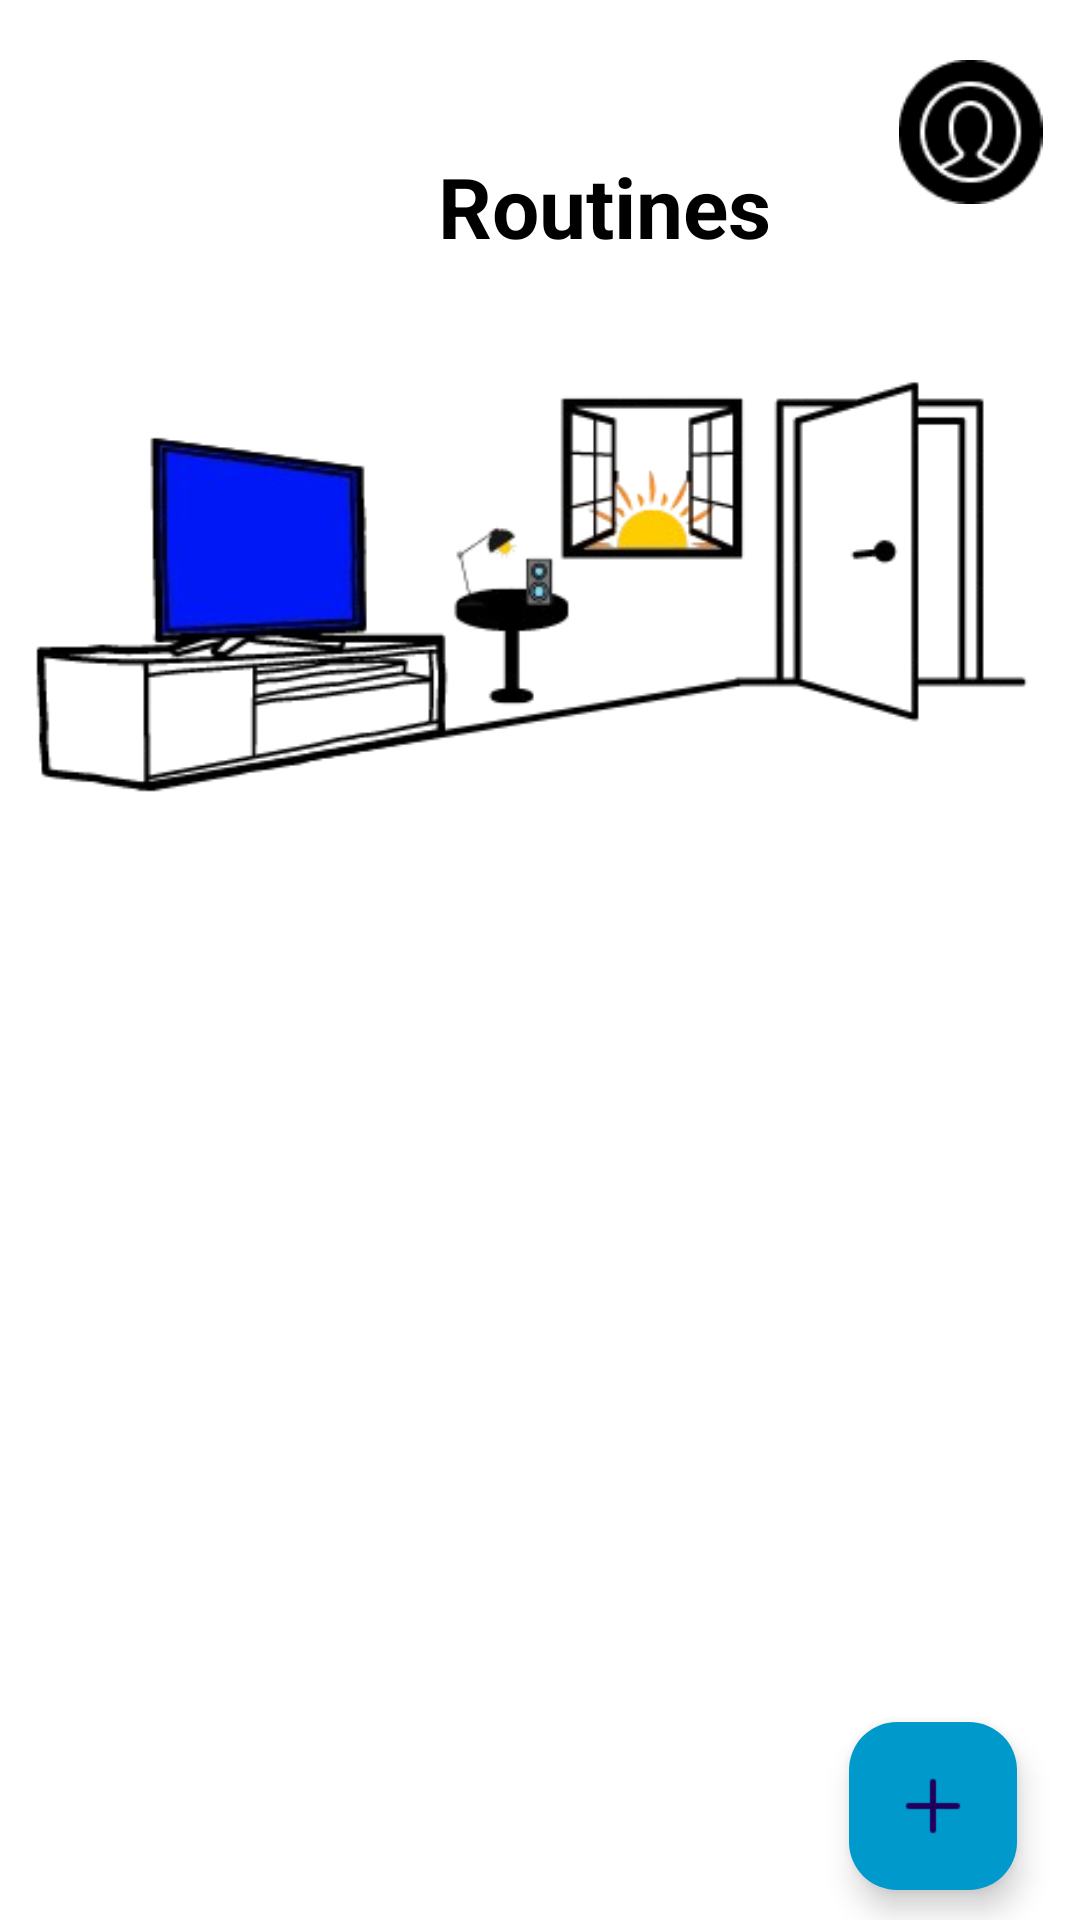

Icon click points for this 1080x1920 phone screenshot, format point (x, y):
imgaddicon: point (933, 1806)
Profile Icon: point (971, 132)
